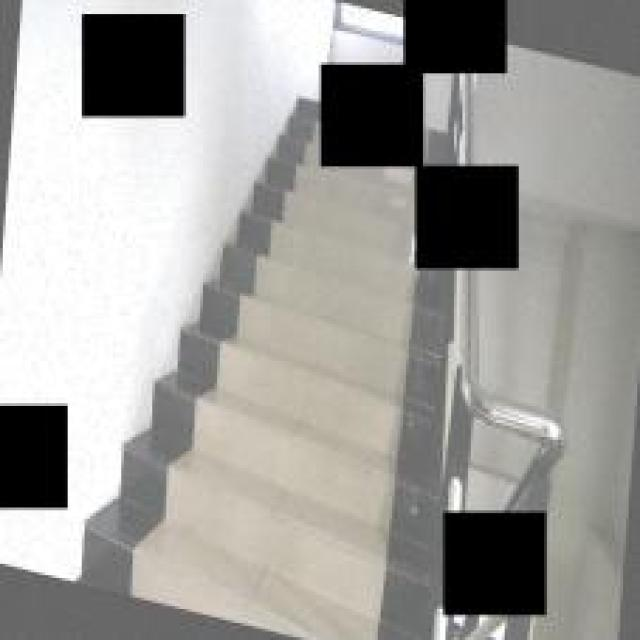upstair: (183, 282, 434, 629)
